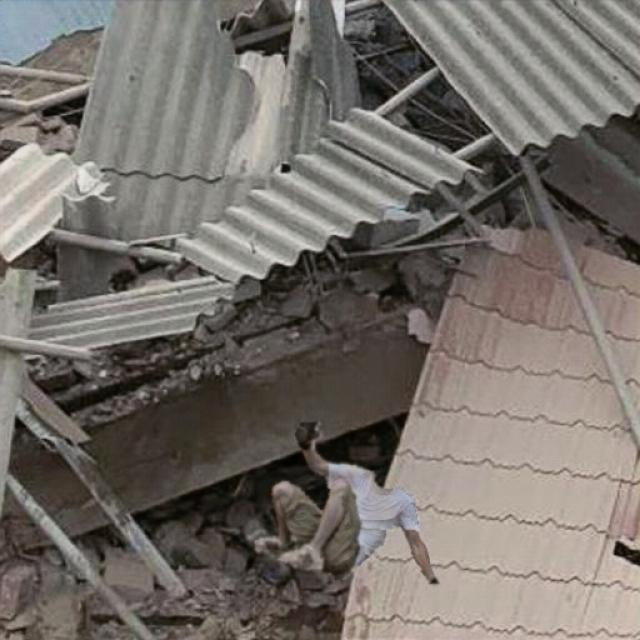Person in Rubble: (255, 422, 439, 582)
